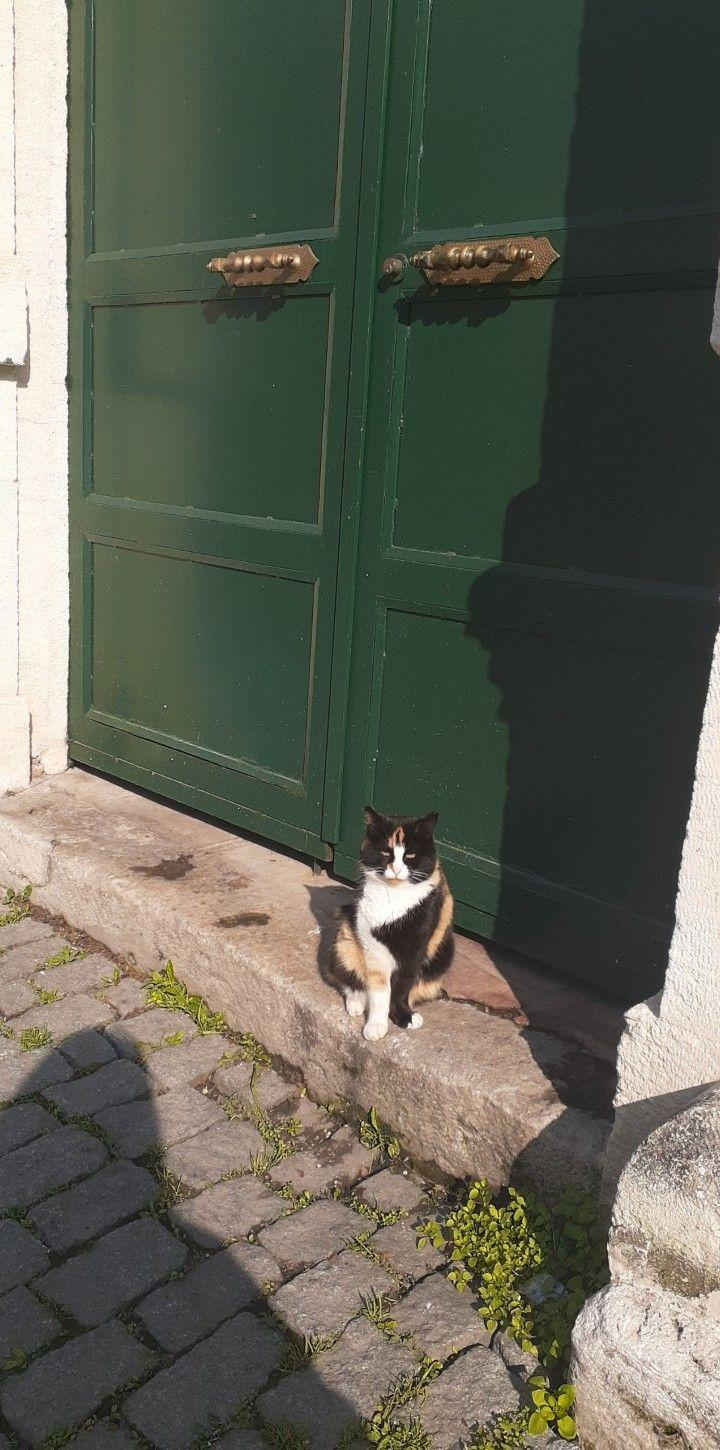kedo: (336, 809, 454, 1037)
